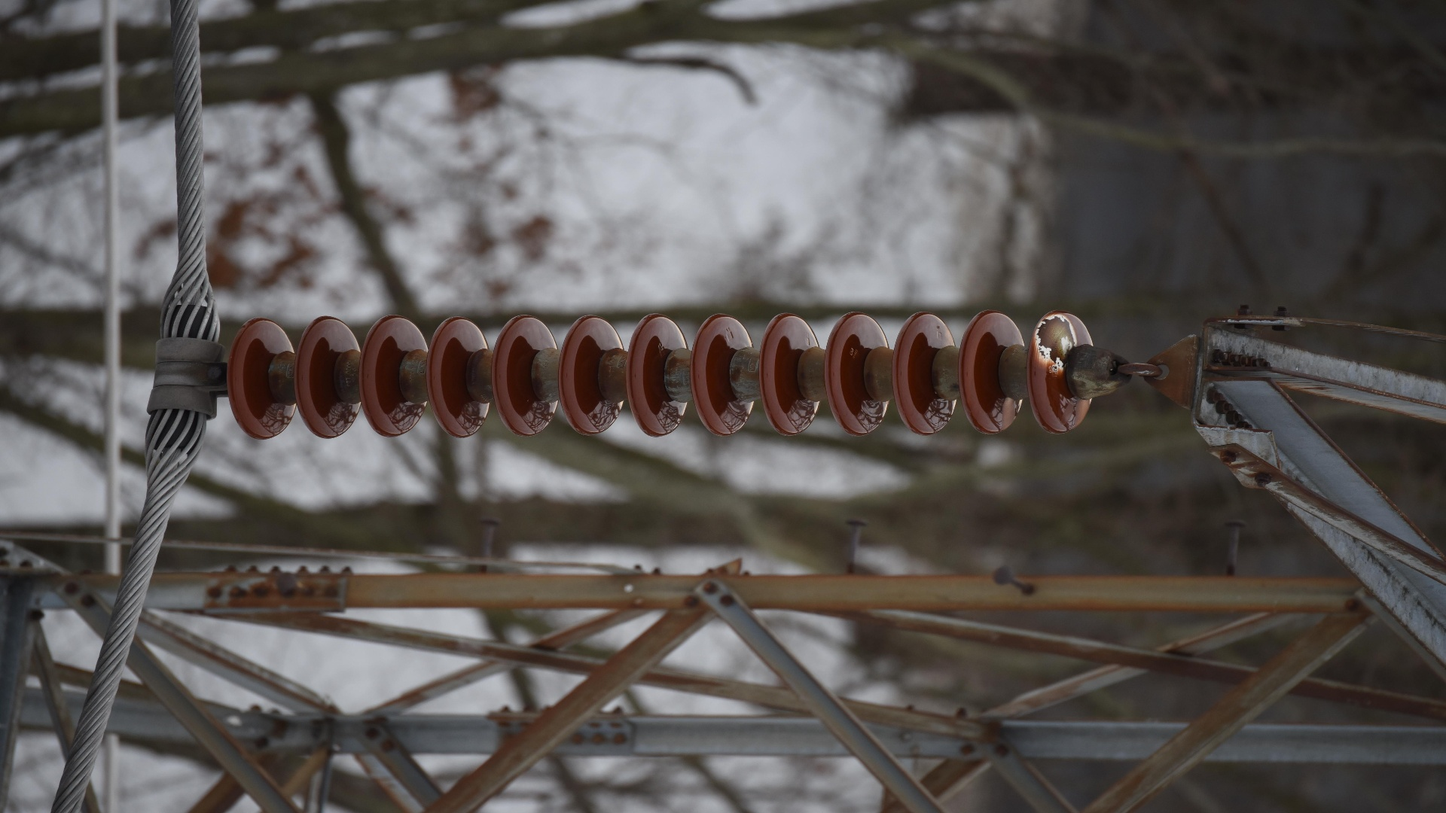insulator: (218, 308, 1100, 445)
